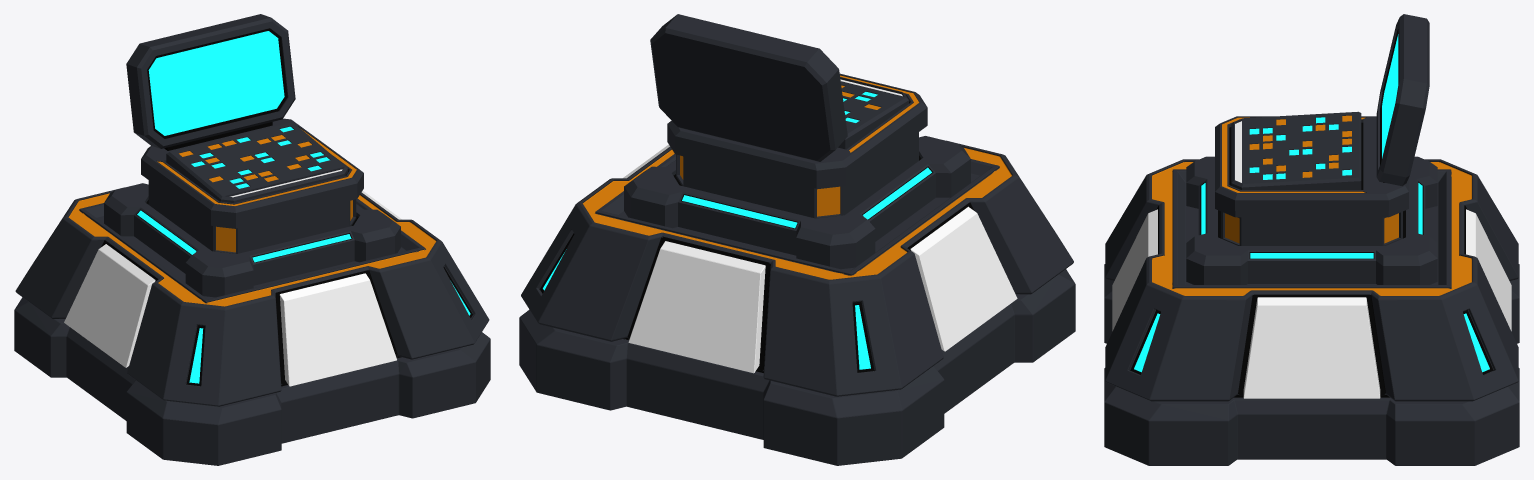
Rendered from SM_Defense_TacticalConsole.fbx.
3 renders of one model, left to right at view 1: azimuth 30°, elevation 25°; view 2: azimuth 150°, elevation 25°; view 3: azimuth 270°, elevation 25°, orthographic. The views are drawn at different scales.
Parts seen in each view (by area): view 1: SM_Defense_TacticalConsole; view 2: SM_Defense_TacticalConsole; view 3: SM_Defense_TacticalConsole.
Part boxes in pixels (x1,y1,x2,y2): SM_Defense_TacticalConsole: (14, 14, 490, 465); SM_Defense_TacticalConsole: (519, 14, 1075, 465); SM_Defense_TacticalConsole: (1104, 14, 1519, 465).
Size of the model in its own units: 100 by 88.13 by 100.
